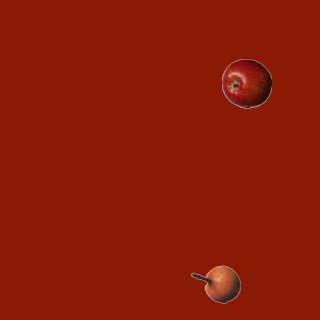Apple Braeburn: (221, 58, 271, 108)
Granadilla: (190, 259, 240, 309)
